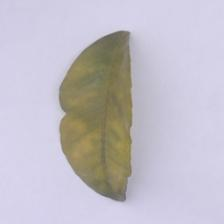greening: (57, 96, 137, 183)
